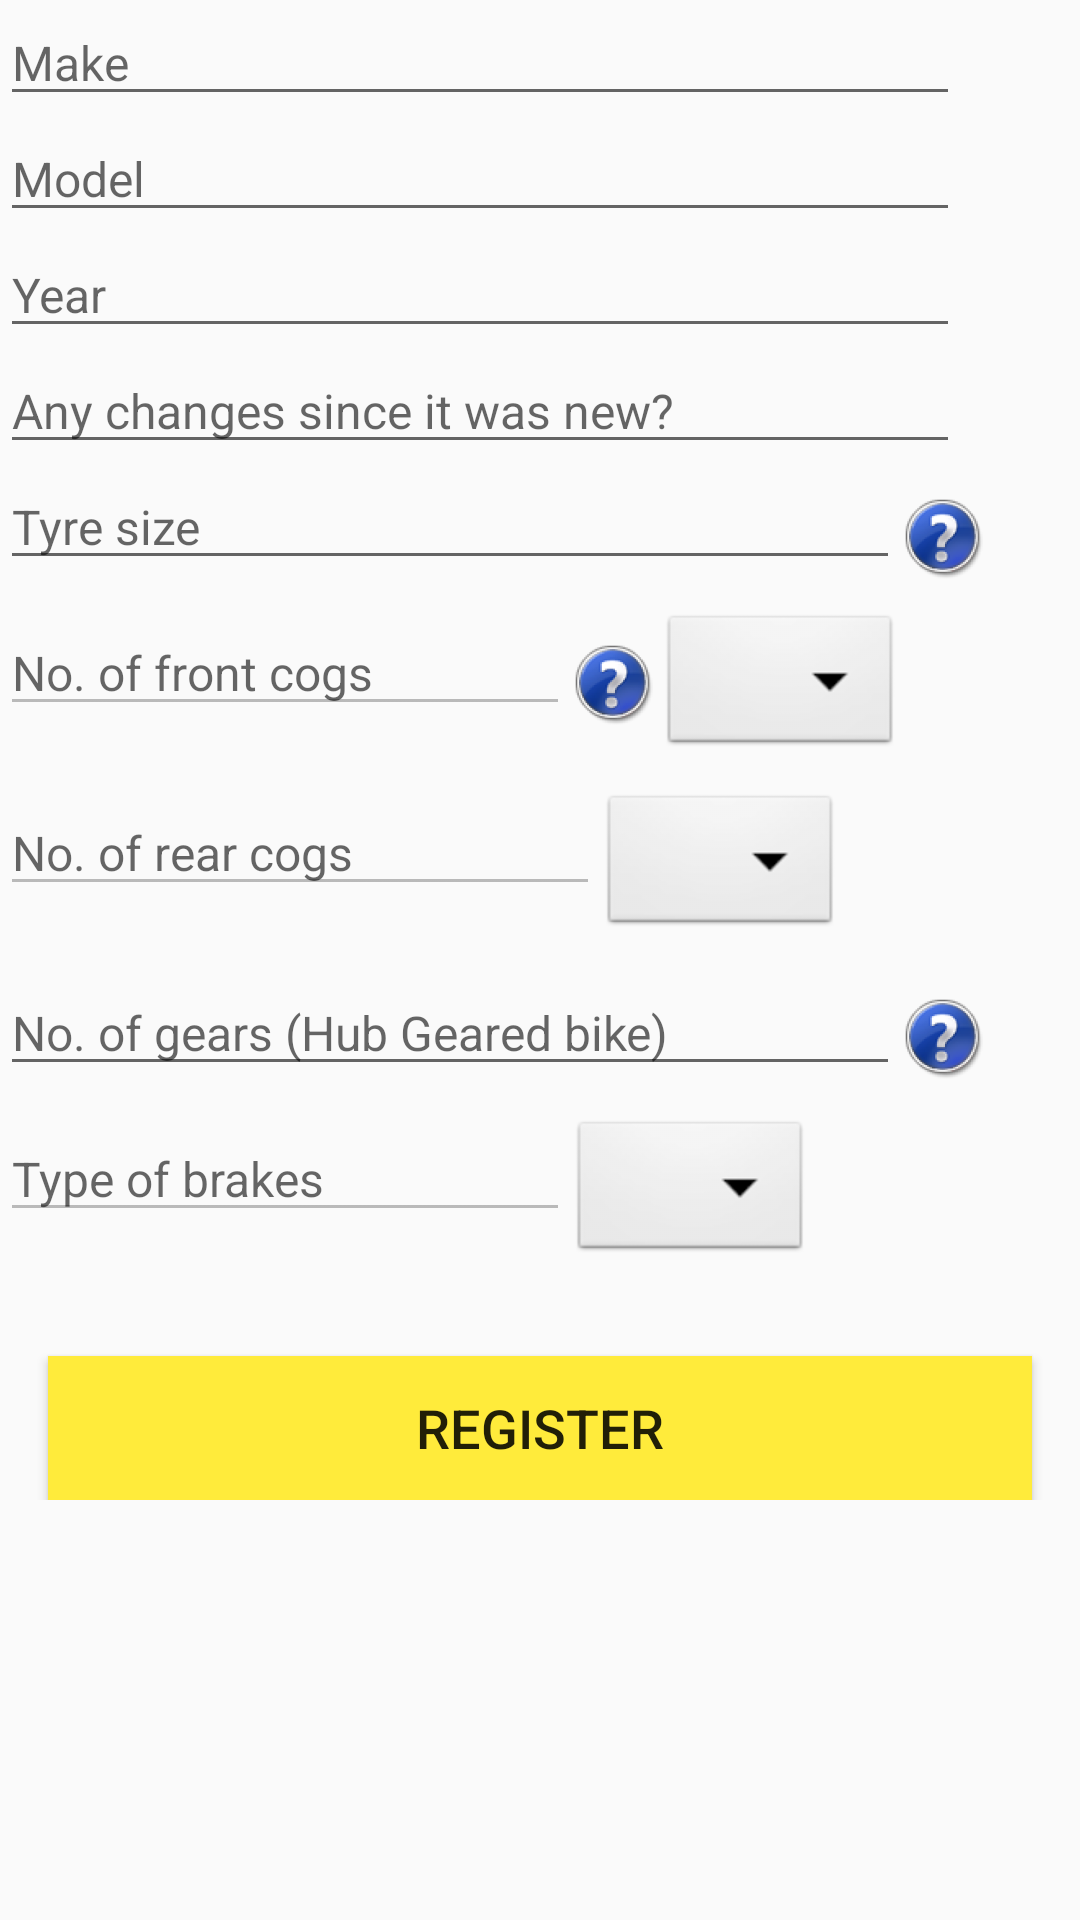

Icons on this 1080*1920 Android screen, each with the point to tap as [x,y]:
tooltip: [943,538], [613,684], [943,1038]
